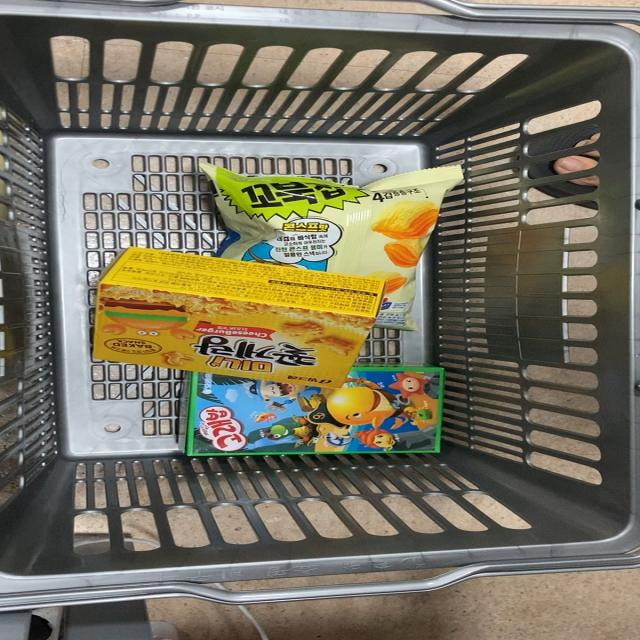ggobukchip: (212, 168, 454, 262)
minicrab: (84, 251, 376, 386), (167, 369, 466, 452)
